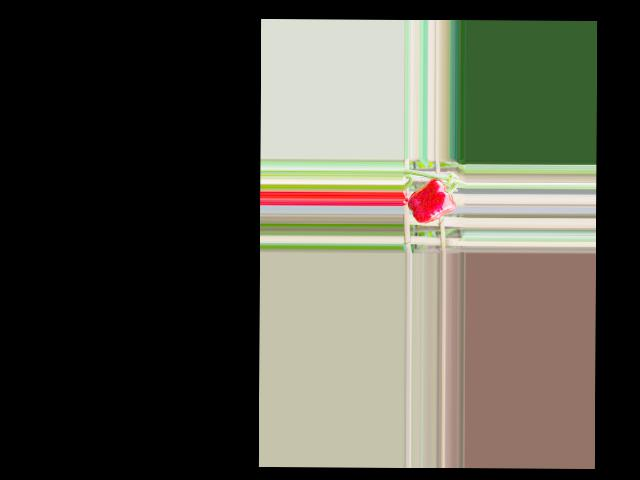bell_pepper: (408, 175, 456, 226)
